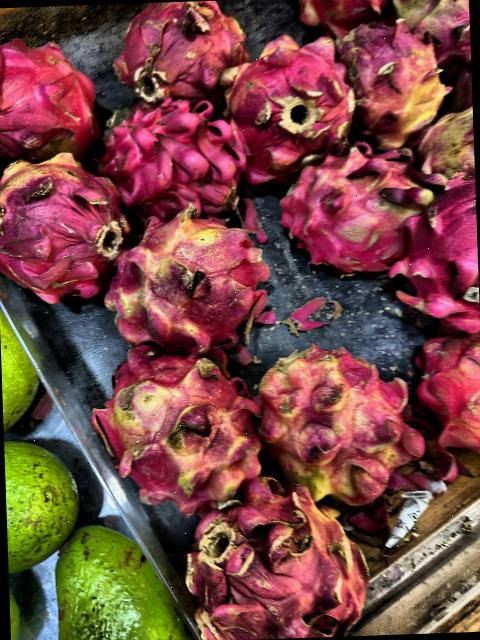buah-naga-belum-matang: (179, 493, 396, 640), (250, 333, 426, 514), (94, 326, 268, 499), (94, 212, 263, 344), (218, 38, 361, 164), (0, 155, 122, 296), (330, 16, 439, 140), (291, 152, 415, 248), (116, 5, 241, 100), (424, 116, 475, 186)
buah-naga-matang: (103, 106, 248, 220), (0, 33, 102, 156), (396, 188, 480, 322), (416, 328, 480, 453)
